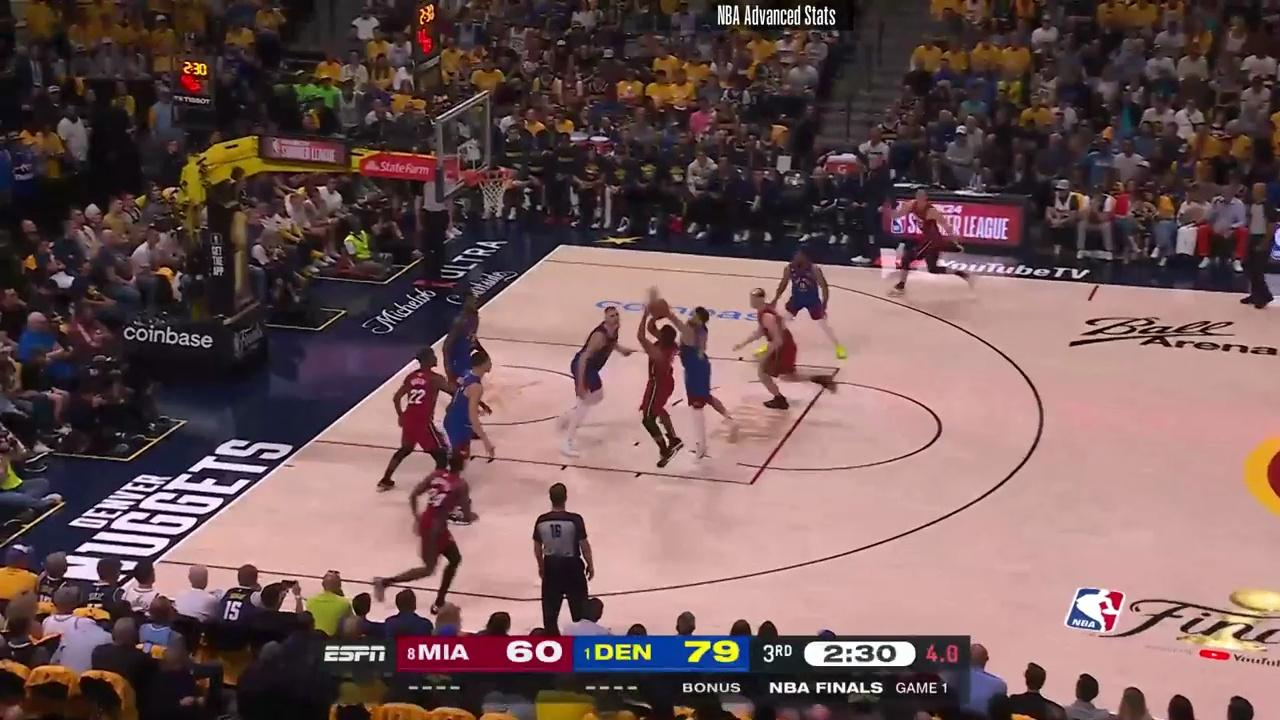Backboard: (440, 91, 493, 202)
Ball: (647, 300, 671, 322)
Basket: (464, 165, 513, 221)
Person: (650, 306, 741, 475), (397, 452, 477, 618), (623, 305, 700, 472), (554, 303, 632, 456), (738, 285, 826, 413), (381, 352, 452, 494), (776, 241, 845, 367), (888, 190, 969, 296), (444, 352, 501, 473), (429, 285, 485, 381)
Referee: (528, 478, 605, 632), (1241, 182, 1280, 312), (411, 170, 454, 280)
Shot Clock: (169, 54, 220, 122), (404, 3, 441, 88)
